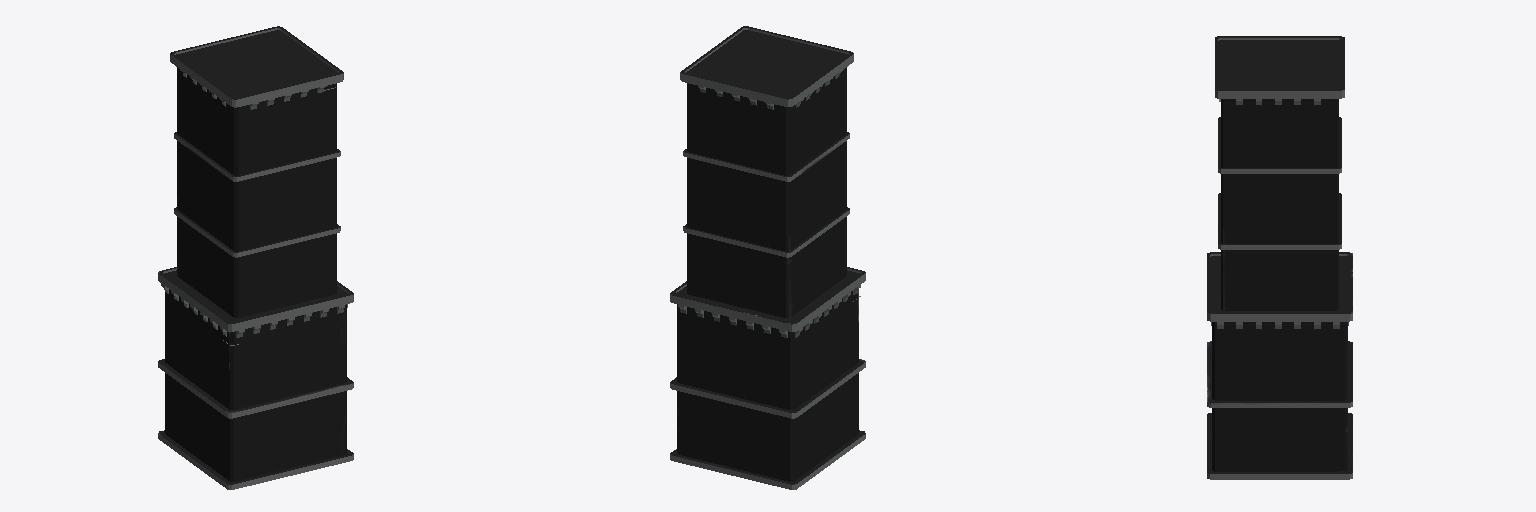
3 views of the same model, side by side, from view 1: azimuth 30°, elevation 25°; view 2: azimuth 150°, elevation 25°; view 3: azimuth 270°, elevation 25° (orthographic).
Visible parts, largest first — view 1: 6Story_Stack.001; view 2: 6Story_Stack.001; view 3: 6Story_Stack.001.
Boxes of the visible parts, x1,y1,x2,y2 form: 6Story_Stack.001: [158, 26, 353, 489]; 6Story_Stack.001: [670, 26, 865, 489]; 6Story_Stack.001: [1207, 36, 1352, 479].
Bounding box in the file's own units: 2.16 × 6.3 × 2.15.
Materials: 1 (1 with a texture image).